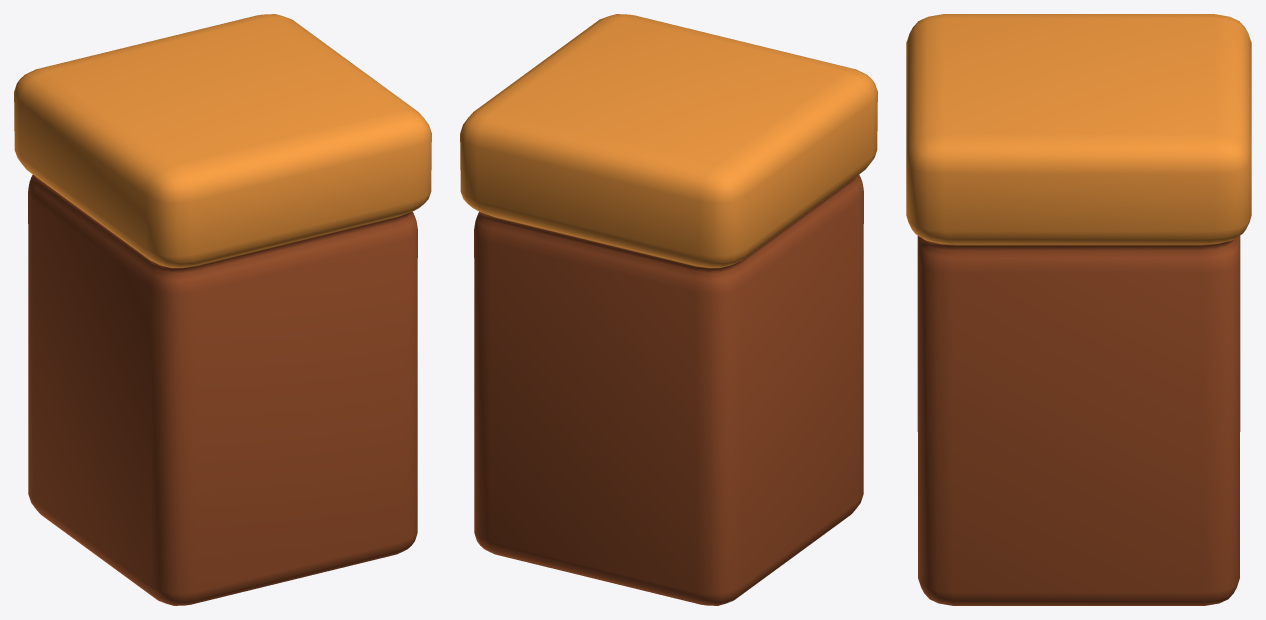
The model's file is platform_m.obj.
3 renders of one model, left to right at view 1: azimuth 30°, elevation 25°; view 2: azimuth 150°, elevation 25°; view 3: azimuth 270°, elevation 25°, orthographic. The views are drawn at different scales.
Parts seen in each view (by area): view 1: platform_m; view 2: platform_m; view 3: platform_m.
Part boxes in pixels (x1,y1,x2,y2): platform_m: [14, 14, 431, 605]; platform_m: [460, 14, 877, 605]; platform_m: [906, 14, 1251, 605].
Size of the model in its own units: 1.97 by 2.96 by 1.97.
